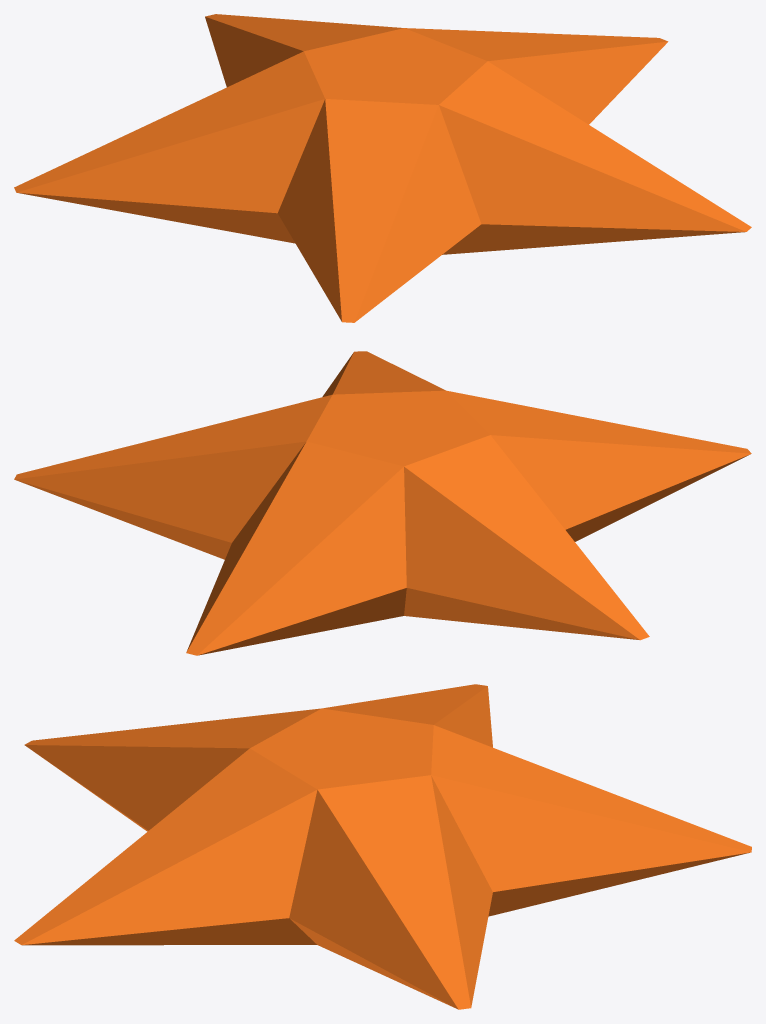
File: animals_starfish.fbx
The picture shows the model from 3 angles, top to bottom: view 1: azimuth 30°, elevation 25°; view 2: azimuth 150°, elevation 25°; view 3: azimuth 270°, elevation 25°; orthographic projection. The views are drawn at different scales.
Visible parts, largest first — view 1: animals_starfish; view 2: animals_starfish; view 3: animals_starfish.
Boxes of the visible parts, x1,y1,x2,y2 form: animals_starfish: [14, 14, 751, 322]; animals_starfish: [14, 351, 751, 655]; animals_starfish: [14, 684, 751, 1009].
Size of the model in its own units: 200 by 44.55 by 192.
